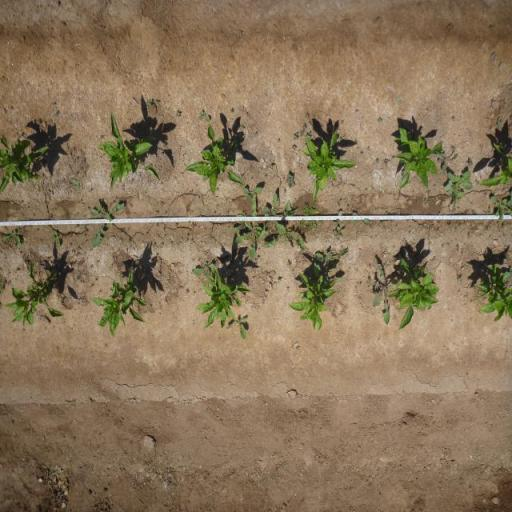plant: (100, 111, 160, 192), (92, 263, 150, 340), (300, 127, 358, 202), (185, 122, 242, 196), (6, 259, 65, 330), (193, 265, 252, 333), (396, 256, 441, 330), (0, 133, 50, 197), (394, 127, 443, 191), (288, 274, 334, 333), (472, 263, 510, 324), (478, 141, 512, 187)
weed: (259, 200, 307, 253), (88, 198, 126, 250), (370, 262, 397, 325), (231, 209, 261, 263), (312, 246, 351, 280), (444, 170, 475, 212), (260, 194, 281, 242), (489, 188, 512, 226), (297, 201, 321, 232), (435, 150, 457, 176), (227, 317, 248, 342), (243, 185, 262, 210), (192, 261, 214, 280), (2, 229, 22, 246), (351, 211, 371, 227), (331, 209, 344, 227), (50, 230, 62, 248), (198, 109, 211, 124), (286, 173, 296, 189), (334, 226, 346, 239), (70, 178, 80, 192), (466, 156, 474, 167), (497, 116, 503, 130), (146, 99, 153, 108), (422, 194, 428, 204), (293, 132, 299, 141), (286, 261, 293, 268), (366, 278, 372, 286), (306, 130, 312, 138), (176, 110, 182, 118), (384, 158, 389, 167), (377, 116, 383, 123), (456, 276, 463, 282), (184, 288, 191, 294), (153, 100, 160, 106), (304, 113, 310, 119), (50, 101, 56, 107), (340, 119, 345, 125), (292, 144, 297, 150), (277, 278, 282, 284), (230, 107, 234, 114), (302, 123, 306, 129), (300, 130, 304, 136), (254, 131, 258, 137), (36, 120, 40, 126), (339, 136, 343, 141), (242, 134, 246, 139), (368, 145, 370, 151)
